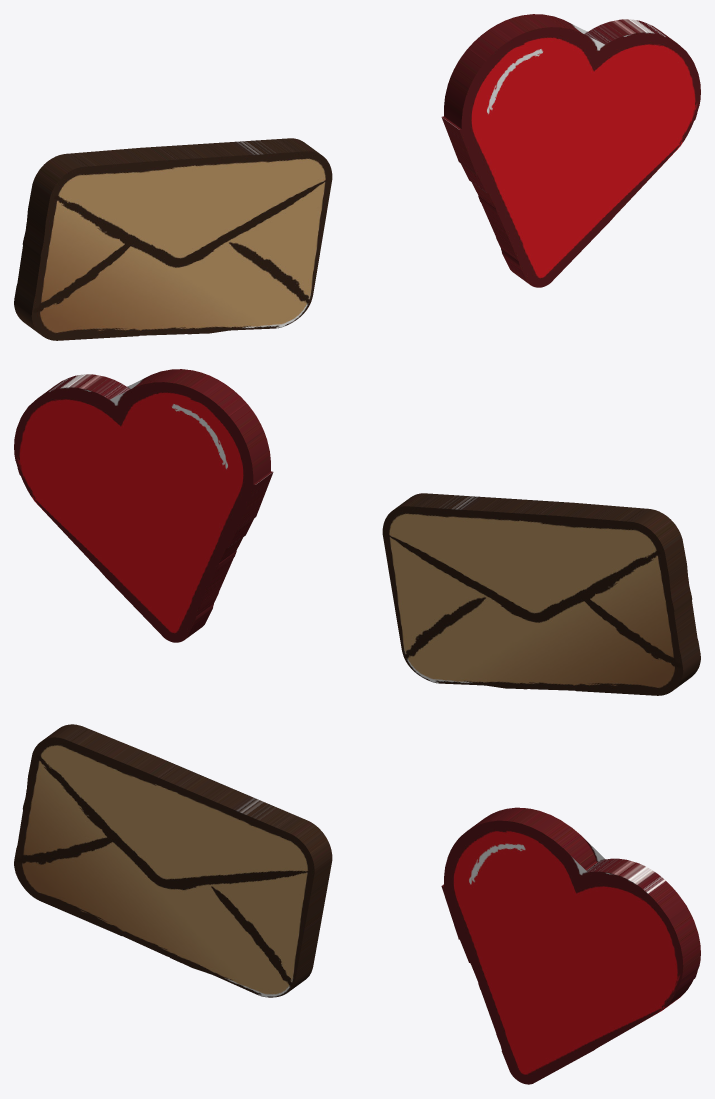
The model's file is lettera e cuore.fbx.
The picture shows the model from 3 angles, top to bottom: view 1: azimuth 30°, elevation 25°; view 2: azimuth 150°, elevation 25°; view 3: azimuth 330°, elevation 25°; orthographic projection.
Visible parts, largest first — view 1: Curve.004, Curve.005; view 2: Curve.004, Curve.005; view 3: Curve.004, Curve.005.
Part boxes in pixels (<box>): Curve.004: <box>14,138,332,340</box>; Curve.005: <box>441,14,700,287</box>; Curve.004: <box>382,493,700,695</box>; Curve.005: <box>14,369,273,642</box>; Curve.004: <box>14,724,332,997</box>; Curve.005: <box>441,807,700,1084</box>.
Bounding box in the file's own units: 2.74 × 1.02 × 0.1261.
1 material, 1 textured.
